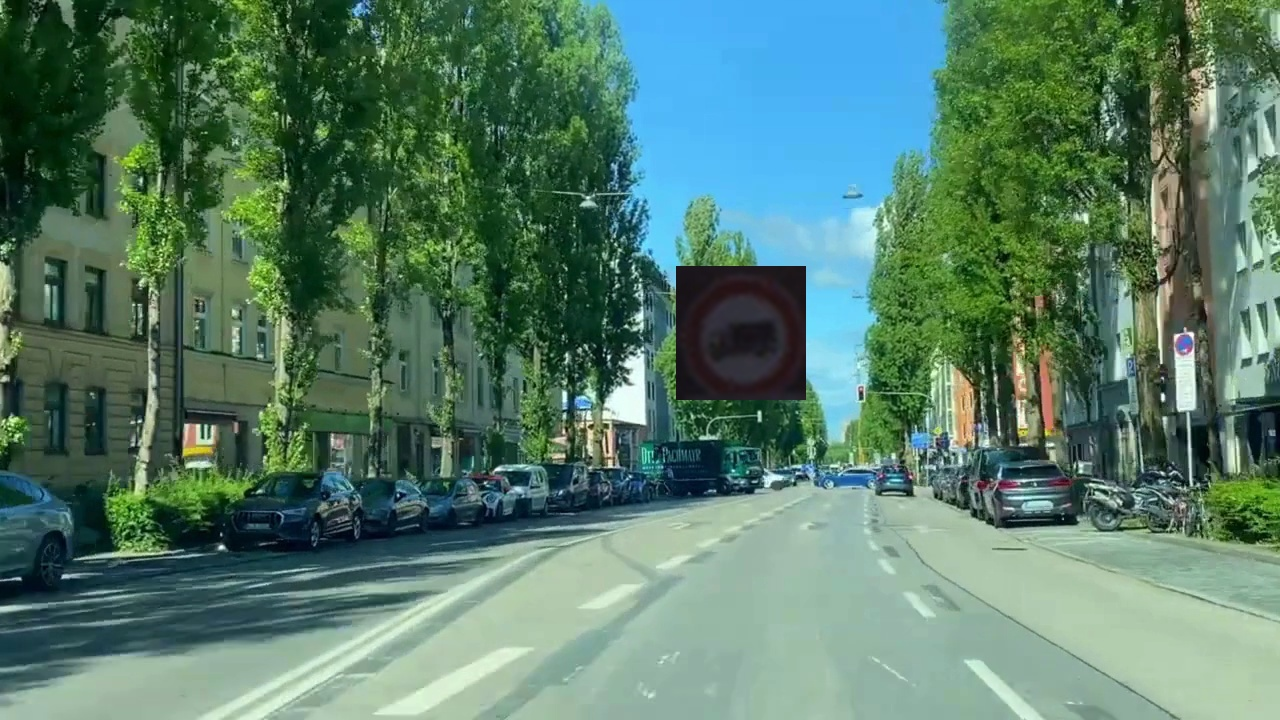Veh >3.5t prohib: (676, 266, 806, 400)
